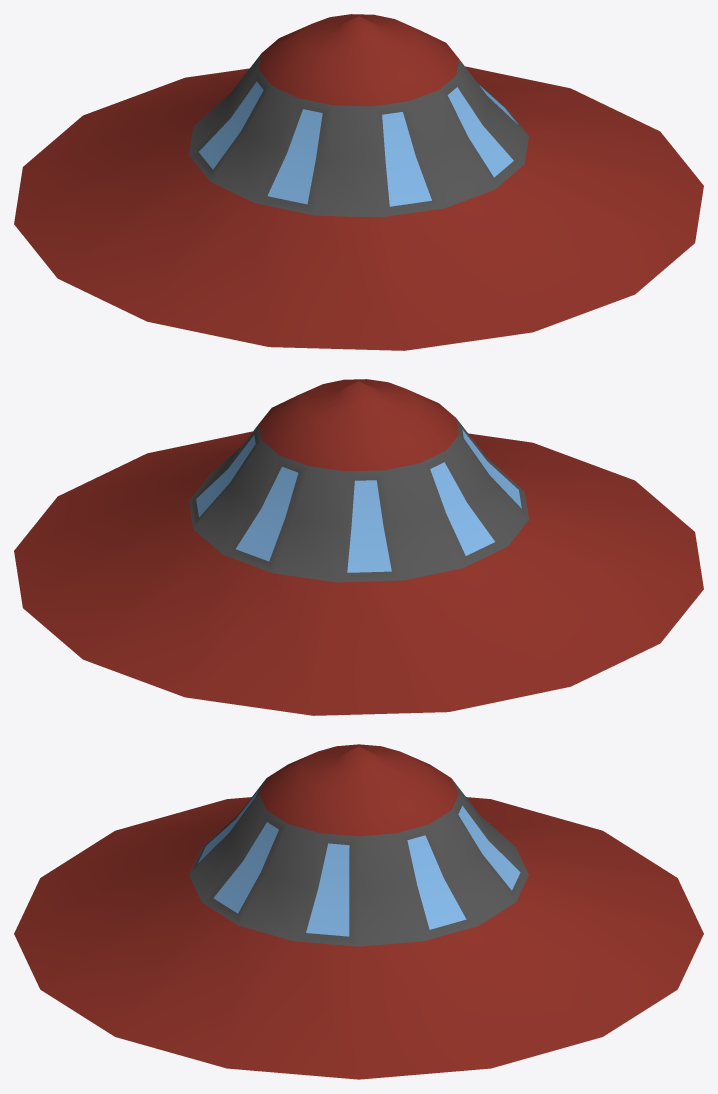
Rendered from Nave.fbx.
3 views of the same model, one above another, from view 1: azimuth 30°, elevation 25°; view 2: azimuth 150°, elevation 25°; view 3: azimuth 270°, elevation 25° (orthographic).
Parts seen in each view (by area): view 1: Nave; view 2: Nave; view 3: Nave.
Part boxes in pixels (left/top/right/bottom): Nave: left=14, top=14, right=703, bottom=350; Nave: left=14, top=379, right=703, bottom=715; Nave: left=14, top=744, right=703, bottom=1079.
Bounding box in the file's own units: 488 × 208 × 488.
